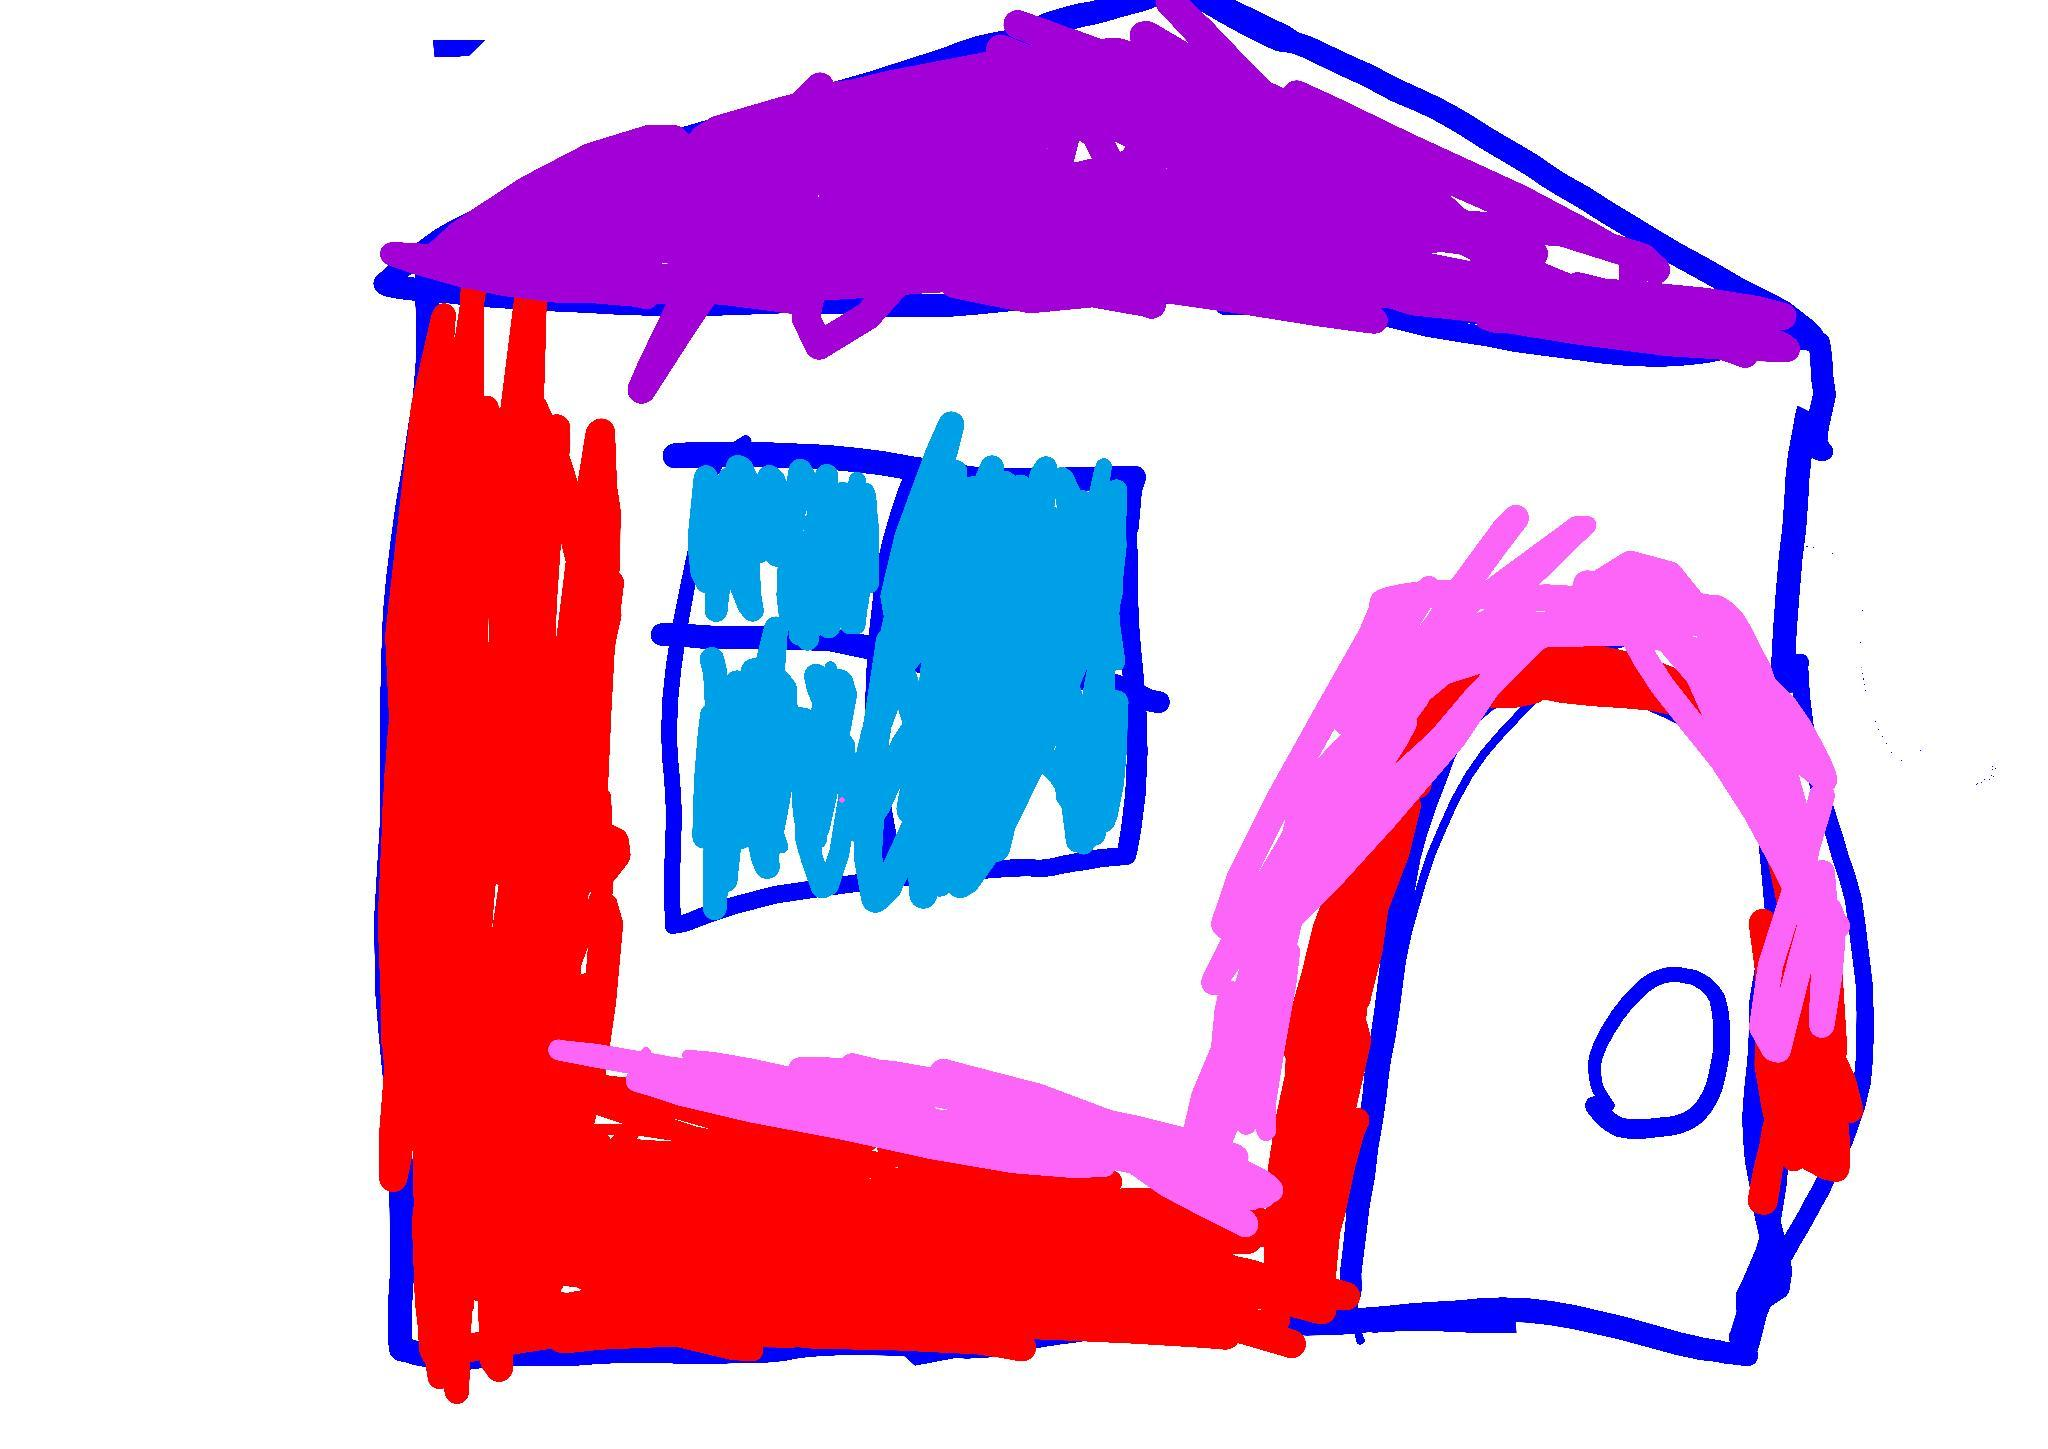door: (1360, 706, 1766, 1339), (1606, 986, 1717, 1123)
house: (373, 0, 1876, 1402)
roof: (364, 0, 1800, 364)
wall: (372, 292, 1863, 1382)
window: (682, 452, 1167, 917)
